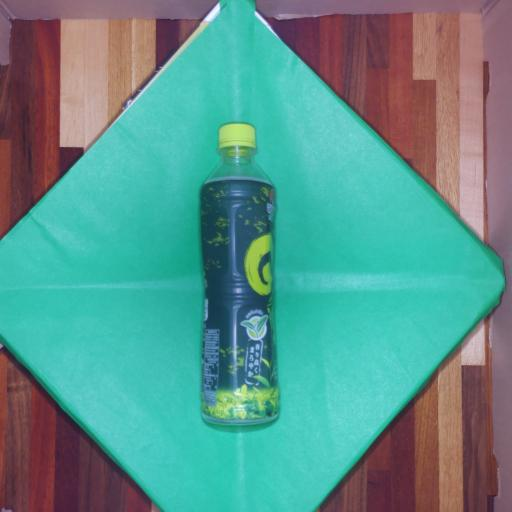bottle: (176, 109, 297, 432)
